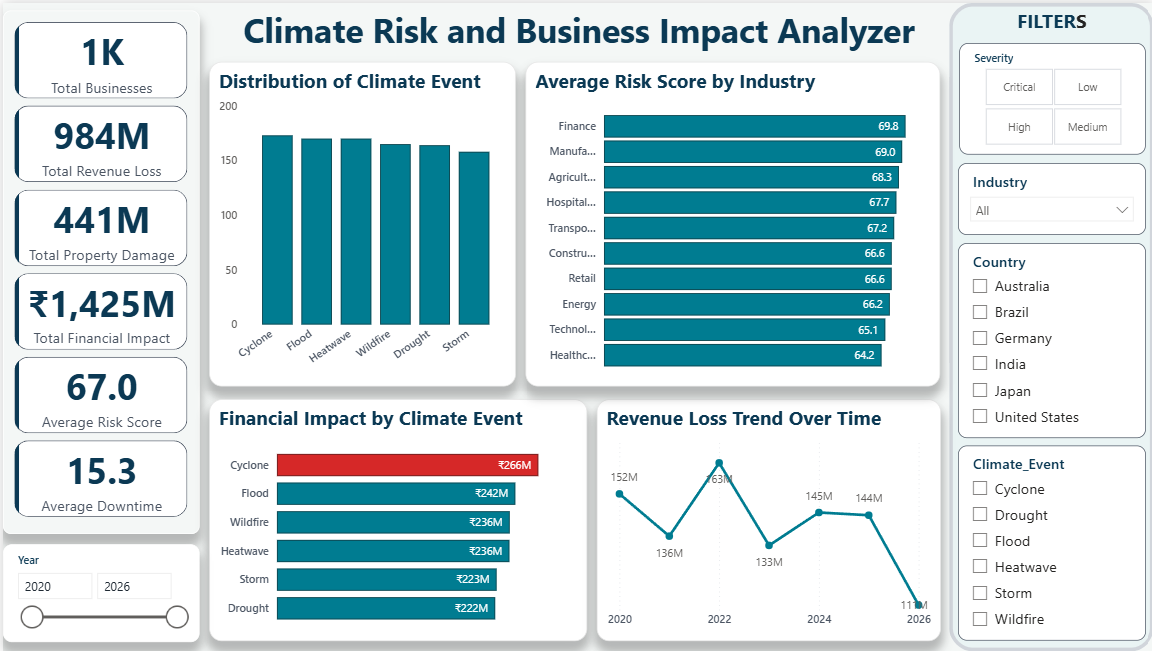

The dashboard page shown, as its layout file describes it:
{"tool":"powerbi","page":{"name":"Executive Overview","canvas":[1280,720],"ordinal":0},"visuals":[{"type":"shape","box":[1052,0,228,720.2],"z":0},{"type":"textbox","box":[229.7,0,821.6,64.9],"z":1000},{"type":"cardVisual","fields":{"Data":["Climate_Risk_and_Business_Impact_Dataset.Total Businesses","Climate_Risk_and_Business_Impact_Dataset.Total Revenue Loss","Climate_Risk_and_Business_Impact_Dataset.Total Property Damage","Climate_Risk_and_Business_Impact_Dataset.Total Financial Impact","Climate_Risk_and_Business_Impact_Dataset.Average Risk Score","Climate_Risk_and_Business_Impact_Dataset.Average Downtime"]},"box":[0,8.4,218.4,581.5],"z":2000},{"type":"lineClusteredColumnComboChart","title":"Distribution of Climate Event","fields":{"Category":["Climate_Risk_and_Business_Impact_Dataset.Climate_Event"],"Y":["CountNonNull(Climate_Risk_and_Business_Impact_Dataset.Business_ID)"]},"box":[229.7,64.9,340.5,360.8],"z":3000},{"type":"clusteredBarChart","title":"Financial Impact by Climate Event","fields":{"Category":["Climate_Risk_and_Business_Impact_Dataset.Climate_Event"],"Y":["Climate_Risk_and_Business_Impact_Dataset.Total Financial Impact"]},"box":[229.7,440.5,420.3,268.9],"z":4000},{"type":"lineChart","title":"Revenue Loss Trend Over Time","fields":{"Category":["Climate_Risk_and_Business_Impact_Dataset.Year"],"Y":["Climate_Risk_and_Business_Impact_Dataset.Total Revenue Loss"]},"box":[659.5,440.5,382.4,268.9],"z":5000},{"type":"clusteredBarChart","fields":{"Category":["Climate_Risk_and_Business_Impact_Dataset.Industry"],"Y":["Climate_Risk_and_Business_Impact_Dataset.Average Risk Score"]},"box":[581.1,64.9,460.8,360.8],"z":6000},{"type":"slicer","fields":{"Values":["Climate_Risk_and_Business_Impact_Dataset.Country"]},"box":[1061.7,266.6,208.7,217.2],"z":7000},{"type":"slicer","fields":{"Values":["Climate_Risk_and_Business_Impact_Dataset.Year"]},"box":[0,600.8,218.4,108.6],"z":8000},{"type":"slicer","fields":{"Values":["Climate_Risk_and_Business_Impact_Dataset.Industry"]},"box":[1061.7,177.3,208.7,79.6],"z":9000},{"type":"slicer","fields":{"Values":["Climate_Risk_and_Business_Impact_Dataset.Severity"]},"box":[1062.9,44.6,207.5,124.3],"z":10000},{"type":"slicer","fields":{"Values":["Climate_Risk_and_Business_Impact_Dataset.Climate_Event"]},"box":[1061.7,492.2,208.7,217.2],"z":11000},{"type":"textbox","box":[1084.6,0,161.7,42.2],"z":12000}]}

Visuals, with their boxes in screenshot pixels (x1, y1, x2, y2), scaled from the page's 1280x720 canvas onto the 1152x651 screenshot:
shape: box(947, 0, 1151, 650)
textbox: box(207, 0, 946, 59)
cardVisual - Climate_Risk_and_Business_Impact_Dataset.Total Businesses x Climate_Risk_and_Business_Impact_Dataset.Total Revenue Loss: box(0, 8, 197, 533)
"Distribution of Climate Event" lineClusteredColumnComboChart: box(207, 59, 513, 385)
"Financial Impact by Climate Event" clusteredBarChart: box(207, 398, 585, 641)
"Revenue Loss Trend Over Time" lineChart: box(594, 398, 938, 641)
clusteredBarChart - Climate_Risk_and_Business_Impact_Dataset.Industry x Climate_Risk_and_Business_Impact_Dataset.Average Risk Score: box(523, 59, 938, 385)
slicer - Climate_Risk_and_Business_Impact_Dataset.Country: box(956, 241, 1143, 437)
slicer - Climate_Risk_and_Business_Impact_Dataset.Year: box(0, 543, 197, 641)
slicer - Climate_Risk_and_Business_Impact_Dataset.Industry: box(956, 160, 1143, 232)
slicer - Climate_Risk_and_Business_Impact_Dataset.Severity: box(957, 40, 1143, 153)
slicer - Climate_Risk_and_Business_Impact_Dataset.Climate_Event: box(956, 445, 1143, 641)
textbox: box(976, 0, 1122, 38)
